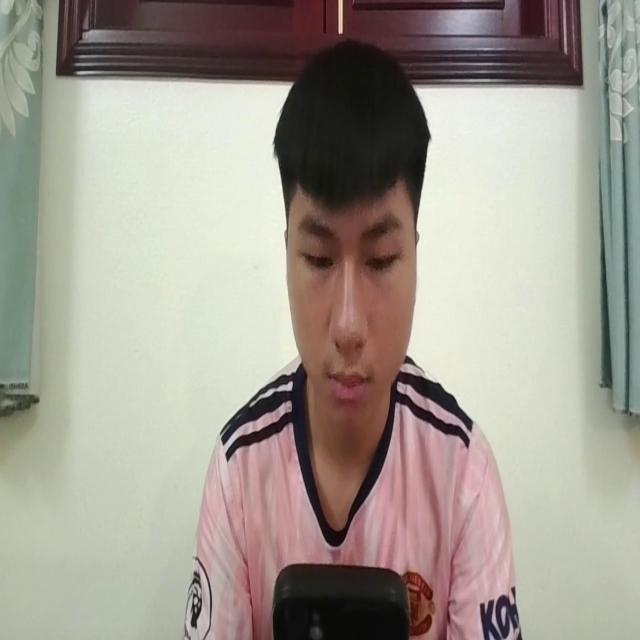phone: (273, 554, 407, 640)
student: (186, 37, 522, 640)
